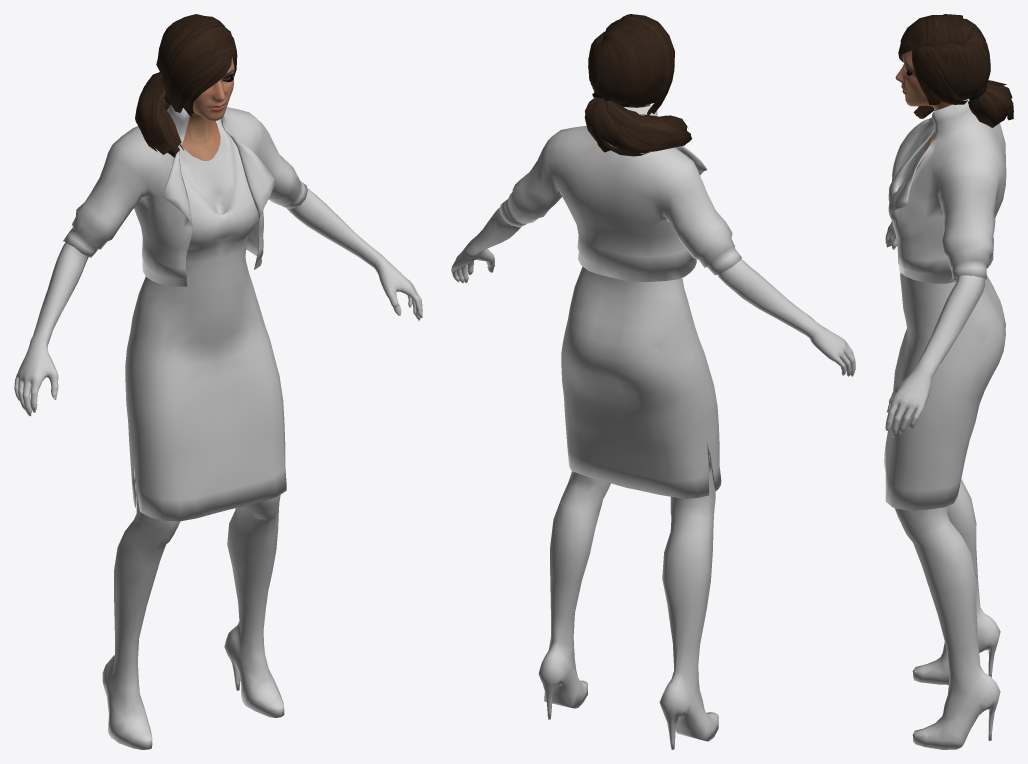
File: girl.obj
3 renders of one model, left to right at view 1: azimuth 30°, elevation 25°; view 2: azimuth 150°, elevation 25°; view 3: azimuth 270°, elevation 25°, orthographic.
Visible parts, largest first — view 1: 29d74350_obj, 2a6c1008_obj, 2a478c70_obj; view 2: 29d74350_obj, 2a6c1008_obj; view 3: 29d74350_obj, 2a6c1008_obj, 2a478c70_obj.
Boxes of the visible parts, x1,y1,x2,y2 form: 29d74350_obj: (14, 105, 422, 749); 2a6c1008_obj: (135, 14, 237, 157); 2a478c70_obj: (181, 56, 234, 160); 29d74350_obj: (451, 104, 855, 749); 2a6c1008_obj: (584, 14, 692, 156); 29d74350_obj: (884, 99, 1006, 749); 2a6c1008_obj: (898, 14, 1013, 127); 2a478c70_obj: (895, 44, 957, 150).
Bounding box in the file's own units: 3.05 × 5.14 × 0.8727.
